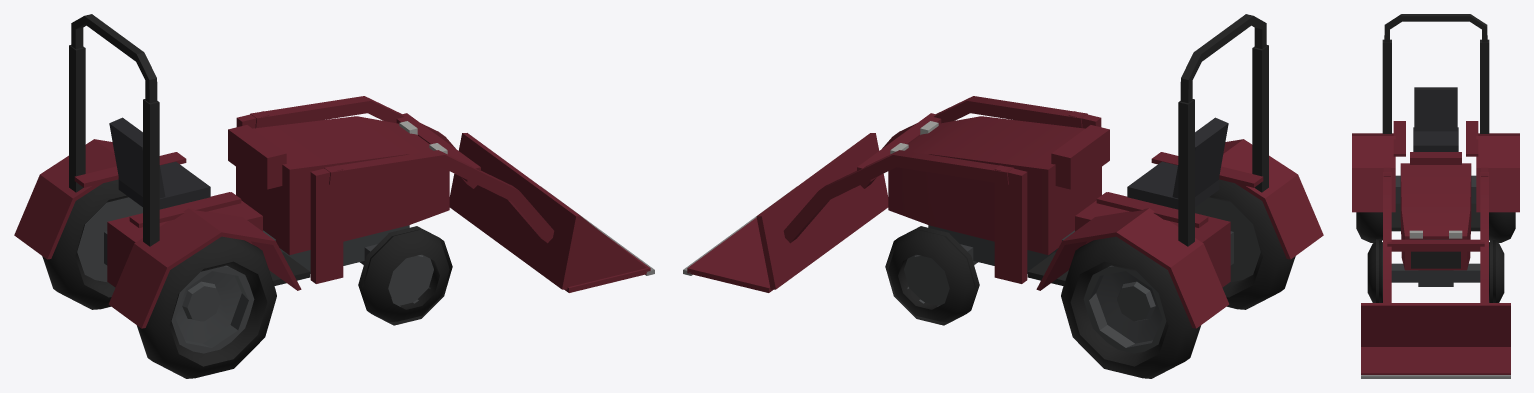
The model's file is SM_Prop_farm_tractor_compact_1_LOD2.glb.
The picture shows the model from 3 angles, left to right: view 1: azimuth 30°, elevation 25°; view 2: azimuth 150°, elevation 25°; view 3: azimuth 270°, elevation 25°; orthographic projection. The views are drawn at different scales.
Visible parts, largest first — view 1: SM_Prop_farm_tractor_compact_1_LOD2; view 2: SM_Prop_farm_tractor_compact_1_LOD2; view 3: SM_Prop_farm_tractor_compact_1_LOD2.
Part boxes in pixels (left/top/right/bottom): SM_Prop_farm_tractor_compact_1_LOD2: left=14, top=14, right=654, bottom=378; SM_Prop_farm_tractor_compact_1_LOD2: left=683, top=14, right=1323, bottom=378; SM_Prop_farm_tractor_compact_1_LOD2: left=1352, top=14, right=1519, bottom=378.
Size of the model in its own units: 3.82 by 2.22 by 1.62.
